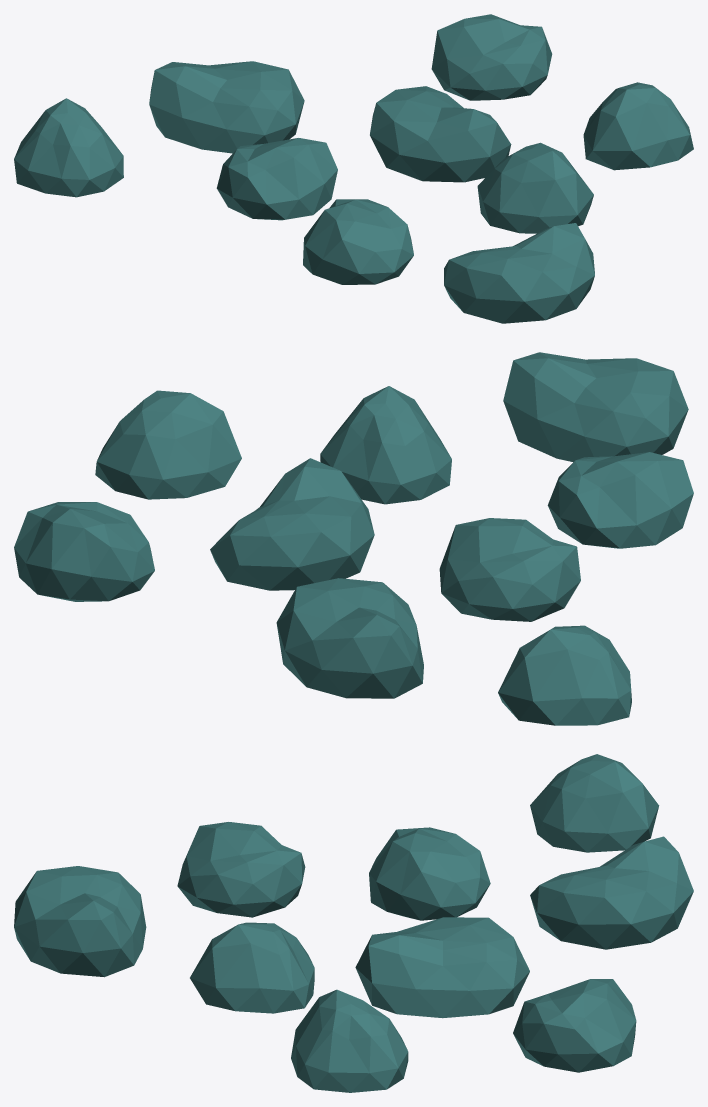
File: Marsrock4.fbx
The picture shows the model from 3 angles, top to bottom: view 1: azimuth 30°, elevation 25°; view 2: azimuth 150°, elevation 25°; view 3: azimuth 270°, elevation 25°; orthographic projection. The views are drawn at different scales.
Visible parts, largest first — view 1: Rocks; view 2: Rocks; view 3: Rocks.
Part boxes in pixels (bbox=[...]): Rocks: bbox=[14, 14, 693, 323]; Rocks: bbox=[14, 352, 693, 725]; Rocks: bbox=[14, 754, 693, 1092].
Bounding box in the file's own units: 223 × 29.82 × 222.
